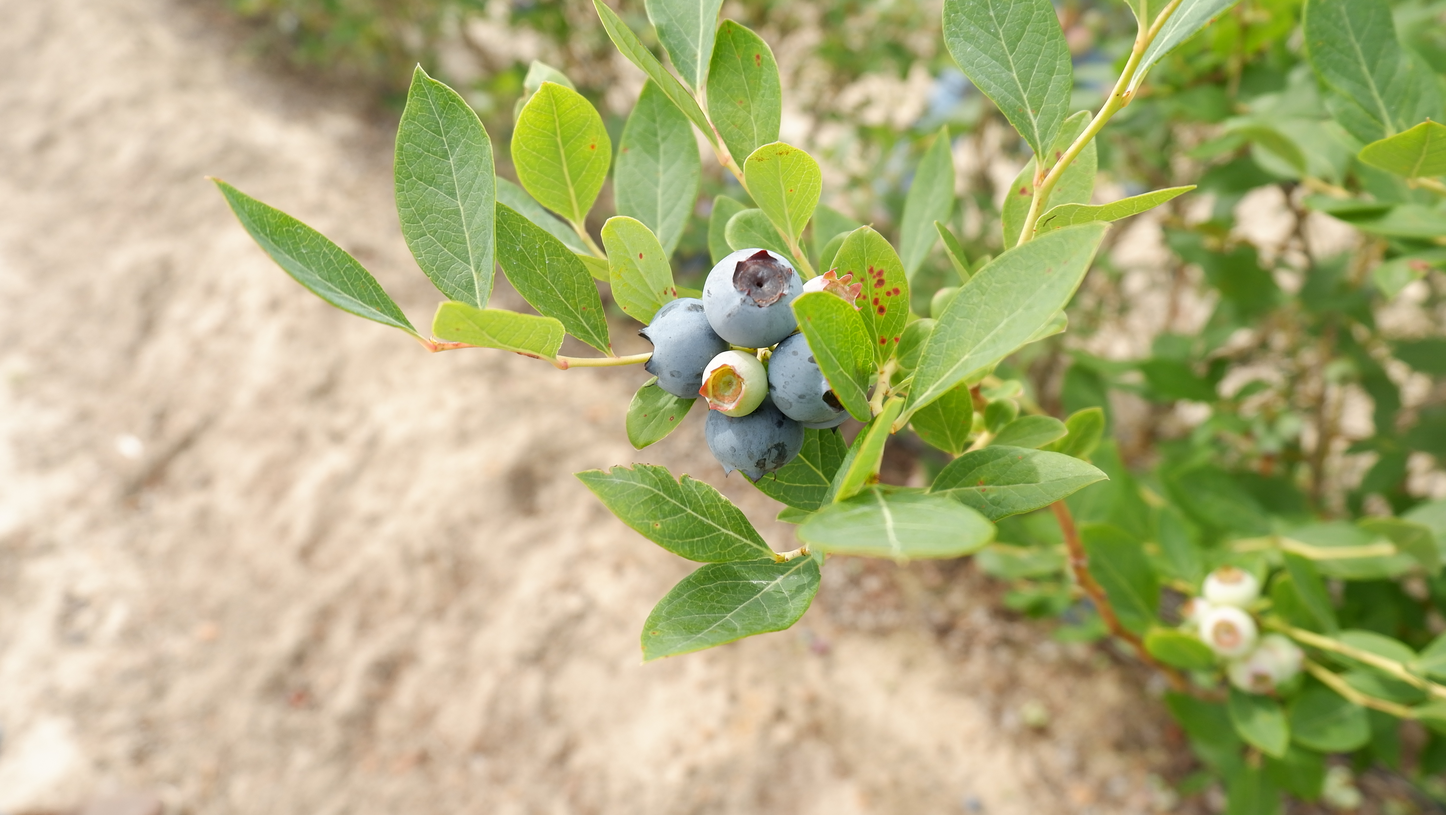Immature: (701, 350, 768, 415), (802, 270, 862, 310)
Mature: (702, 249, 802, 349), (638, 299, 729, 398), (705, 393, 804, 483), (766, 333, 846, 423), (802, 410, 851, 431)
